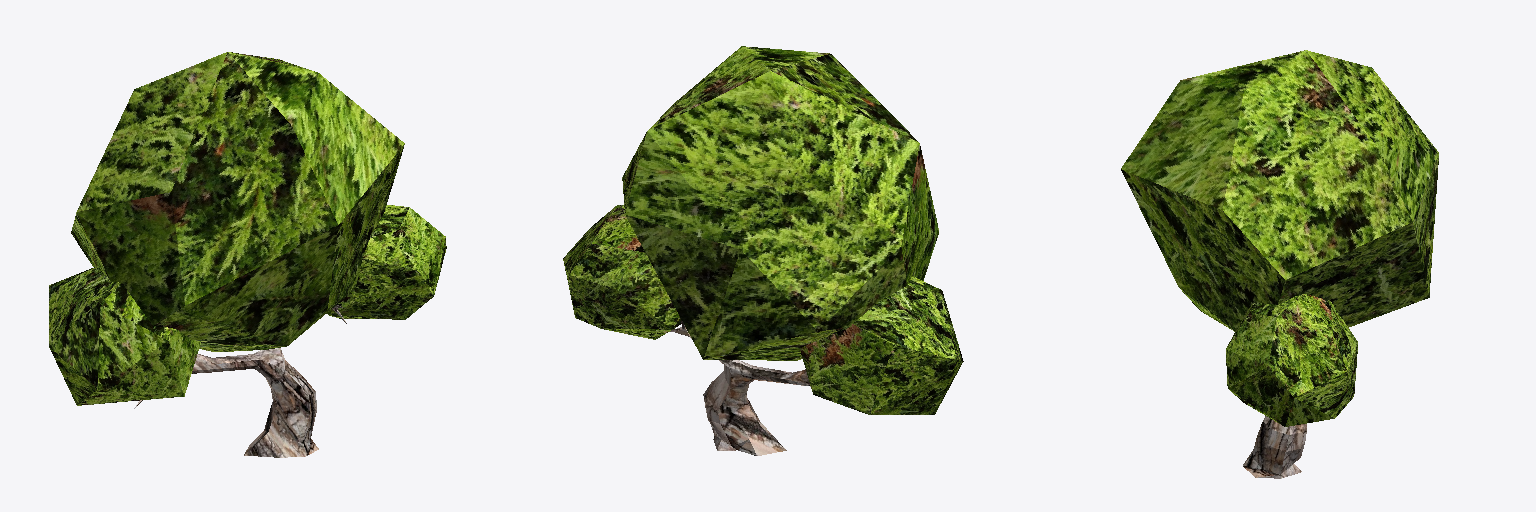
3 renders of one model, left to right at view 1: azimuth 30°, elevation 25°; view 2: azimuth 150°, elevation 25°; view 3: azimuth 270°, elevation 25°, orthographic.
Parts seen in each view (by area): view 1: yaprak1_Icosphere.002, yaprak3_Icosphere, yaprak2_Icosphere.001, body_Cube.001; view 2: yaprak1_Icosphere.002, yaprak3_Icosphere, yaprak2_Icosphere.001, body_Cube.001; view 3: yaprak1_Icosphere.002, yaprak2_Icosphere.001, body_Cube.001.
Boxes of the visible parts, <box> form: yaprak1_Icosphere.002: <box>71,52,404,351</box>; yaprak3_Icosphere: <box>49,267,200,405</box>; yaprak2_Icosphere.001: <box>327,205,446,319</box>; body_Cube.001: <box>134,305,346,457</box>; yaprak1_Icosphere.002: <box>622,46,938,360</box>; yaprak3_Icosphere: <box>800,276,963,414</box>; yaprak2_Icosphere.001: <box>563,205,681,339</box>; body_Cube.001: <box>670,321,810,455</box>; yaprak1_Icosphere.002: <box>1121,50,1438,331</box>; yaprak2_Icosphere.001: <box>1226,293,1357,426</box>; body_Cube.001: <box>1243,416,1306,478</box>.
Size of the model in its own units: 4.8 by 4.6 by 3.35.
2 materials, 2 textured.